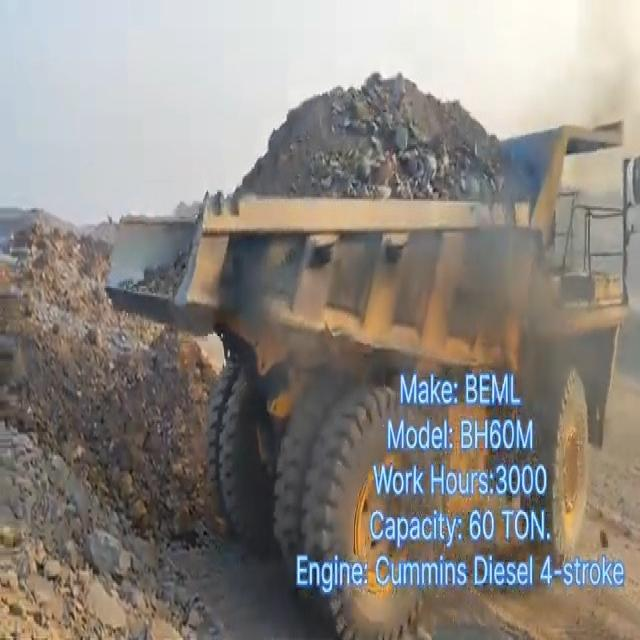dump_truck: (108, 134, 632, 376)
